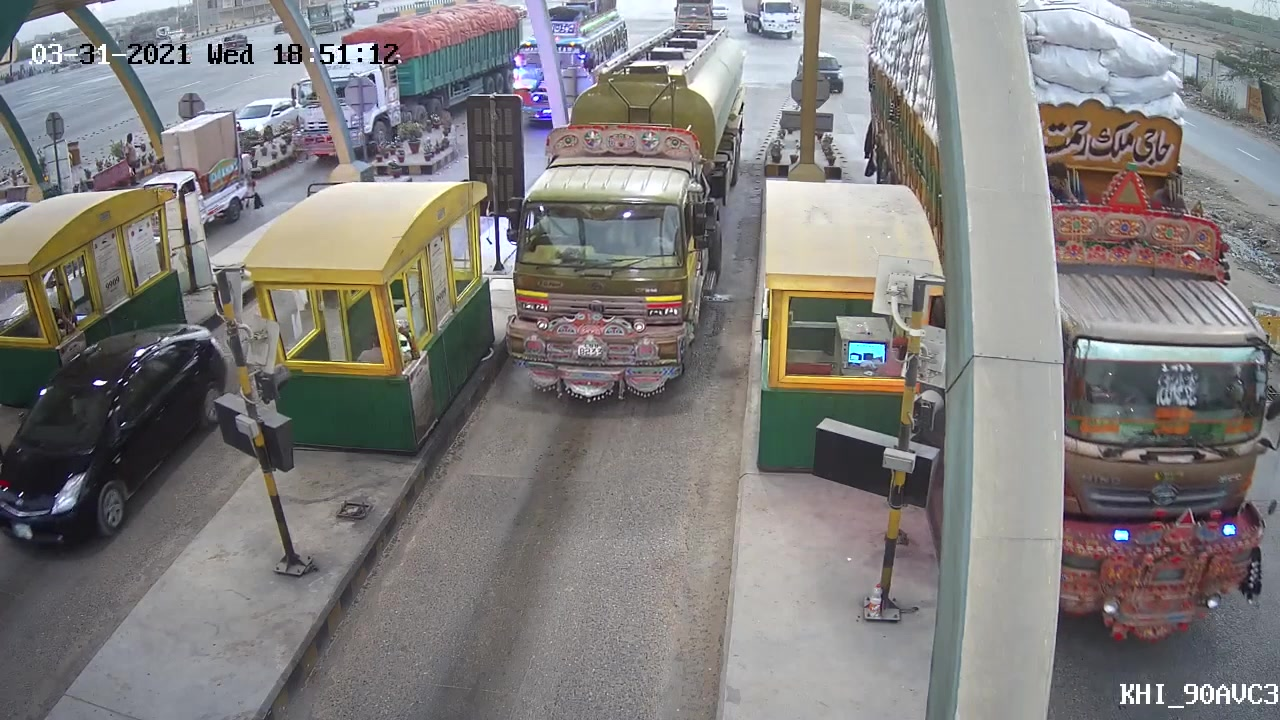F6: (501, 33, 757, 409)
